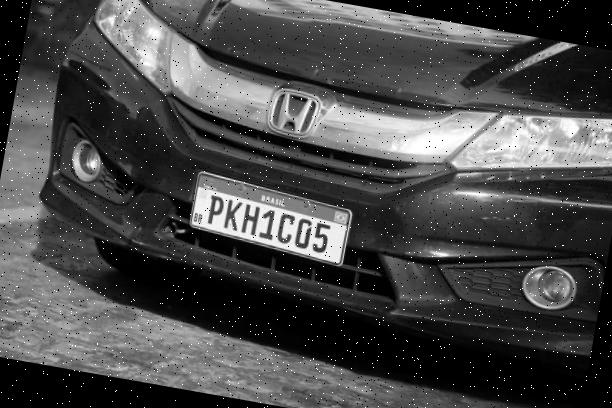placa_mercosul: (190, 174, 347, 264)
